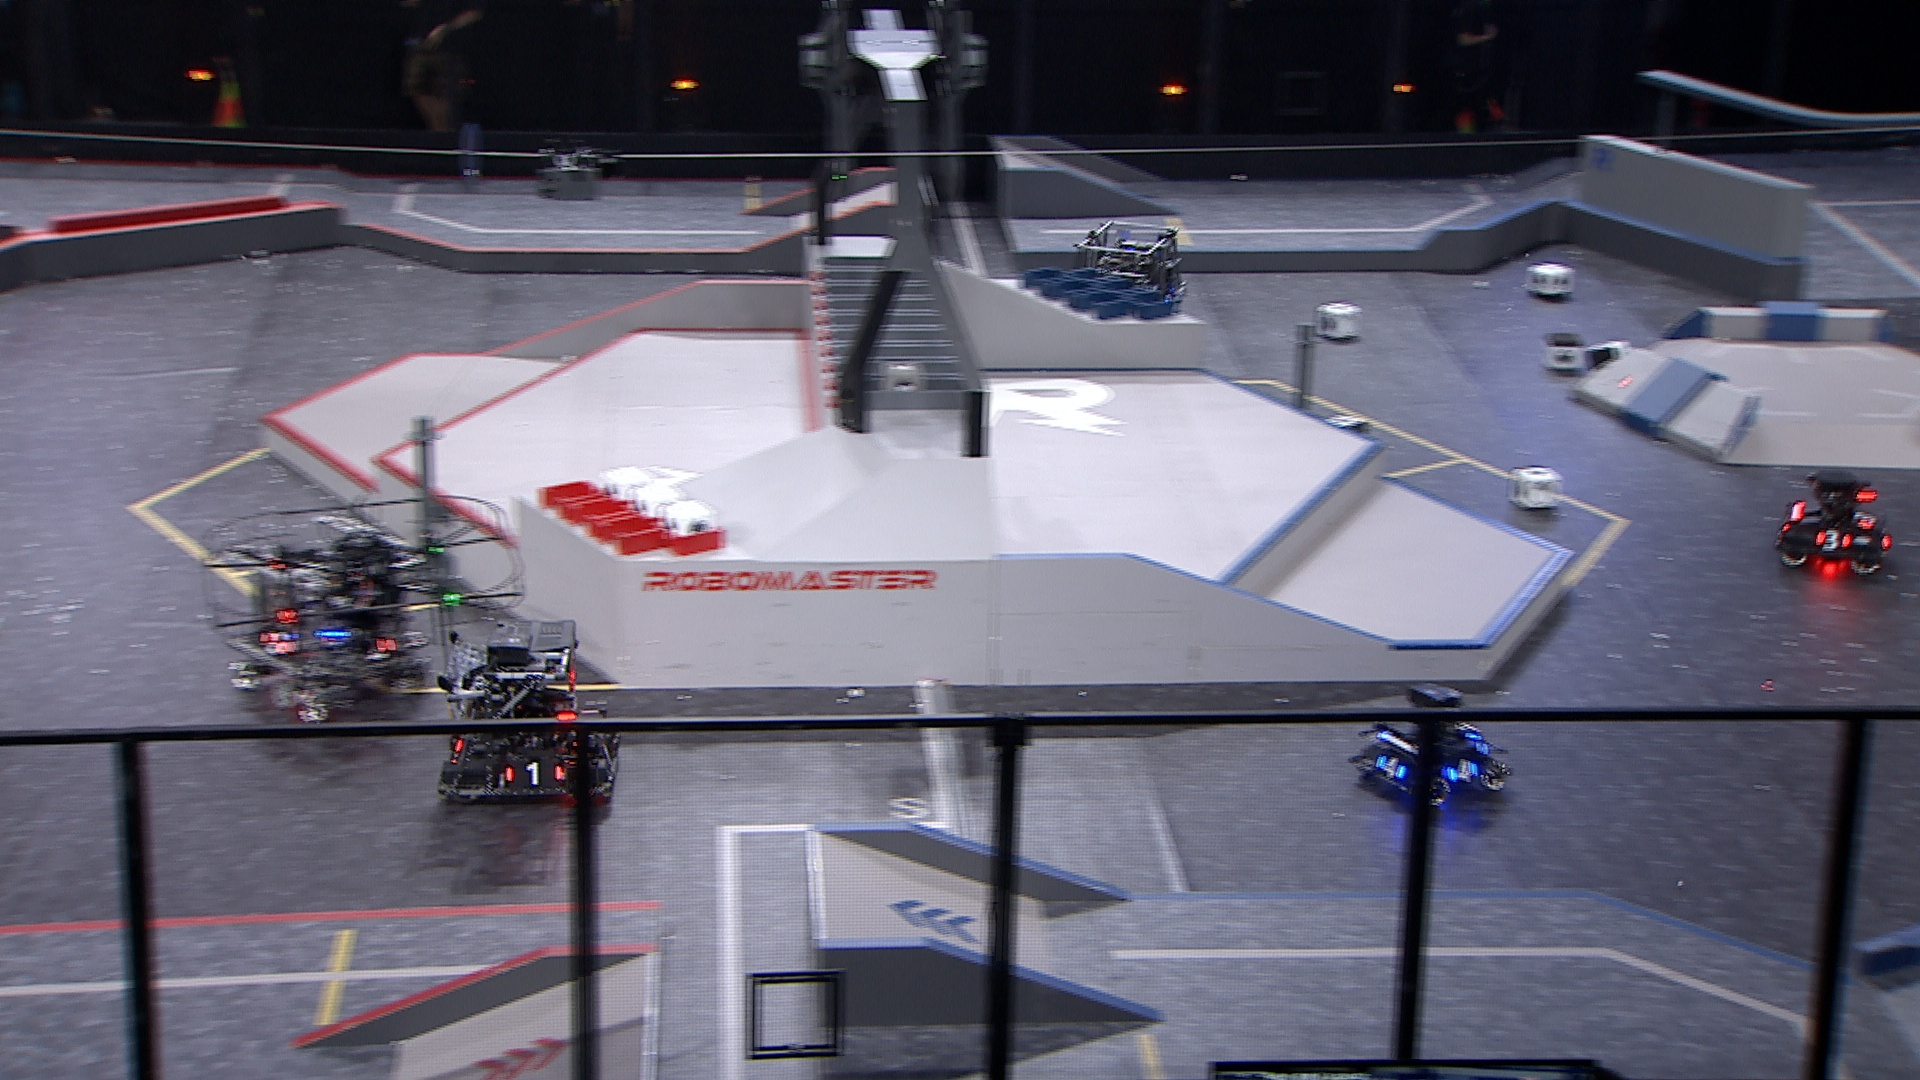armor: (501, 757, 567, 790), (1371, 752, 1408, 783), (257, 629, 295, 659), (357, 636, 398, 662), (1452, 717, 1487, 746), (1816, 529, 1851, 556), (1447, 756, 1481, 783), (593, 735, 618, 771), (1850, 509, 1880, 531)
car: (224, 517, 429, 719), (429, 613, 618, 802), (1349, 676, 1509, 811), (1068, 218, 1191, 345), (1775, 469, 1898, 578)
